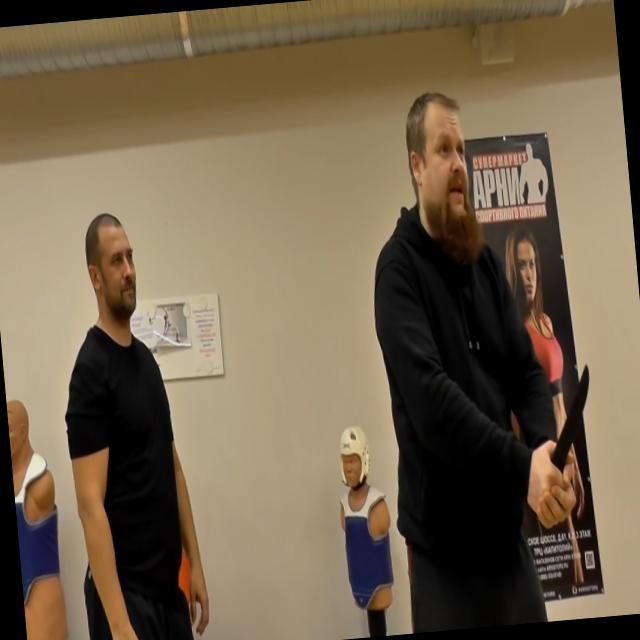knife: (521, 356, 602, 532)
